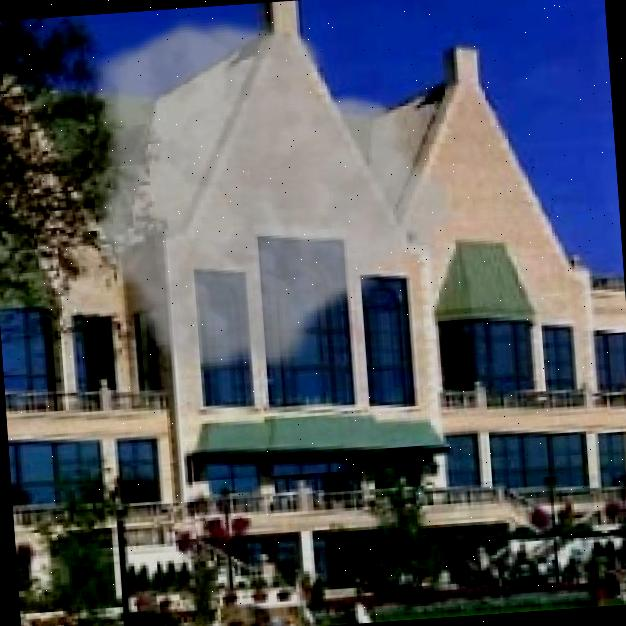smoke: (76, 0, 473, 391)
